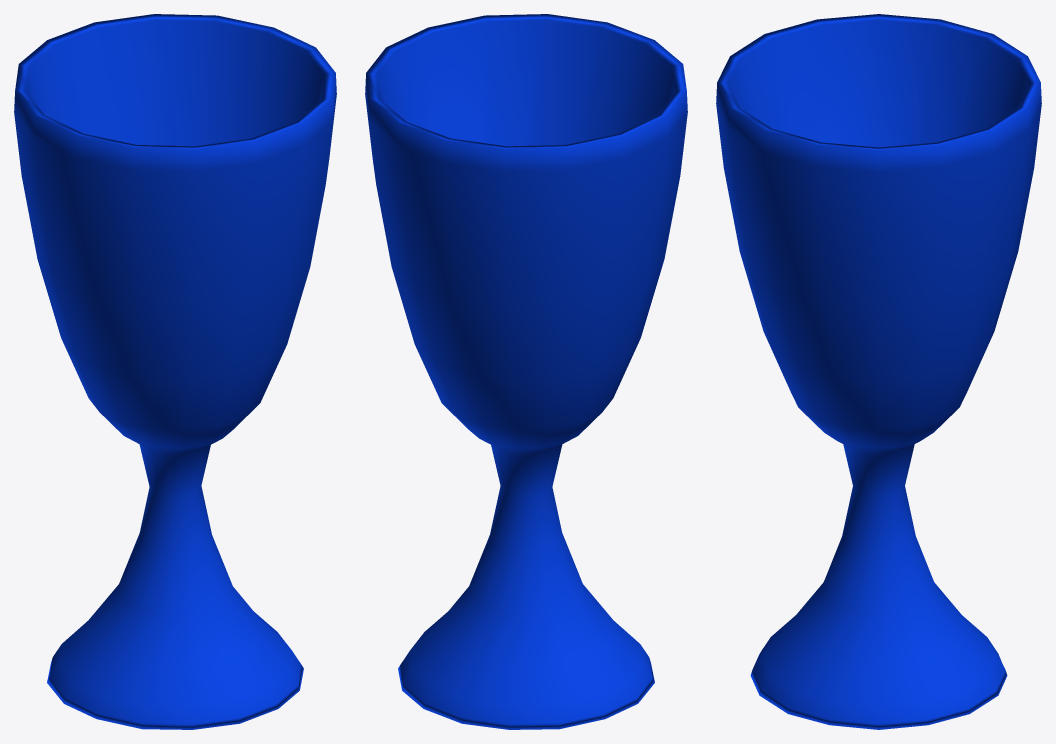
File: Cup_01.fbx
The picture shows the model from 3 angles, left to right: view 1: azimuth 30°, elevation 25°; view 2: azimuth 150°, elevation 25°; view 3: azimuth 270°, elevation 25°; orthographic projection.
Parts seen in each view (by area): view 1: Cup_01; view 2: Cup_01; view 3: Cup_01.
Boxes of the visible parts, left/top/right/bottom form: Cup_01: left=14, top=14, right=336, bottom=729; Cup_01: left=365, top=14, right=687, bottom=729; Cup_01: left=716, top=14, right=1041, bottom=729.
Size of the model in its own units: 12.14 by 24.49 by 12.14.
